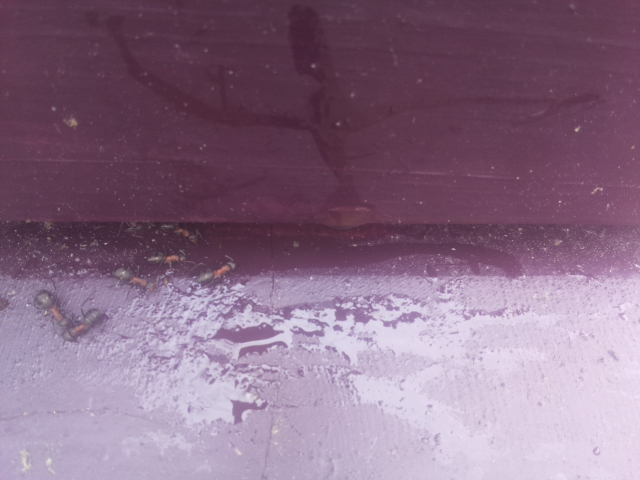ant: (23, 274, 88, 354), (185, 254, 244, 293), (64, 305, 106, 342), (106, 265, 159, 292), (145, 245, 188, 271)
